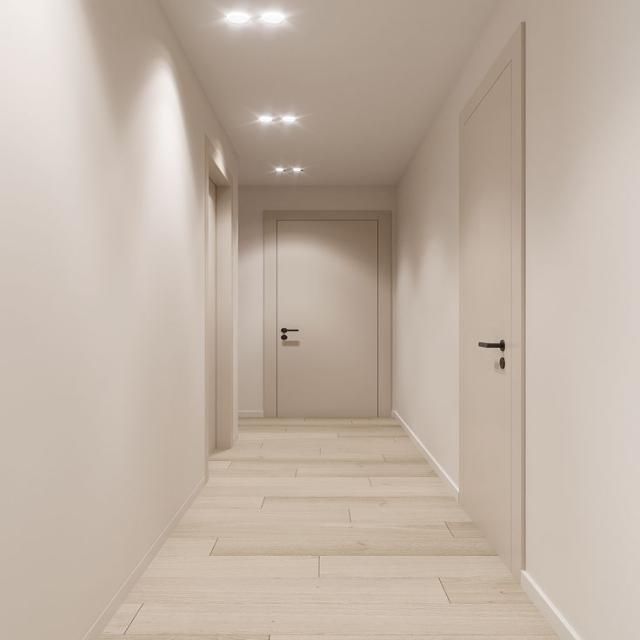door: (456, 21, 525, 580), (265, 212, 386, 418)
